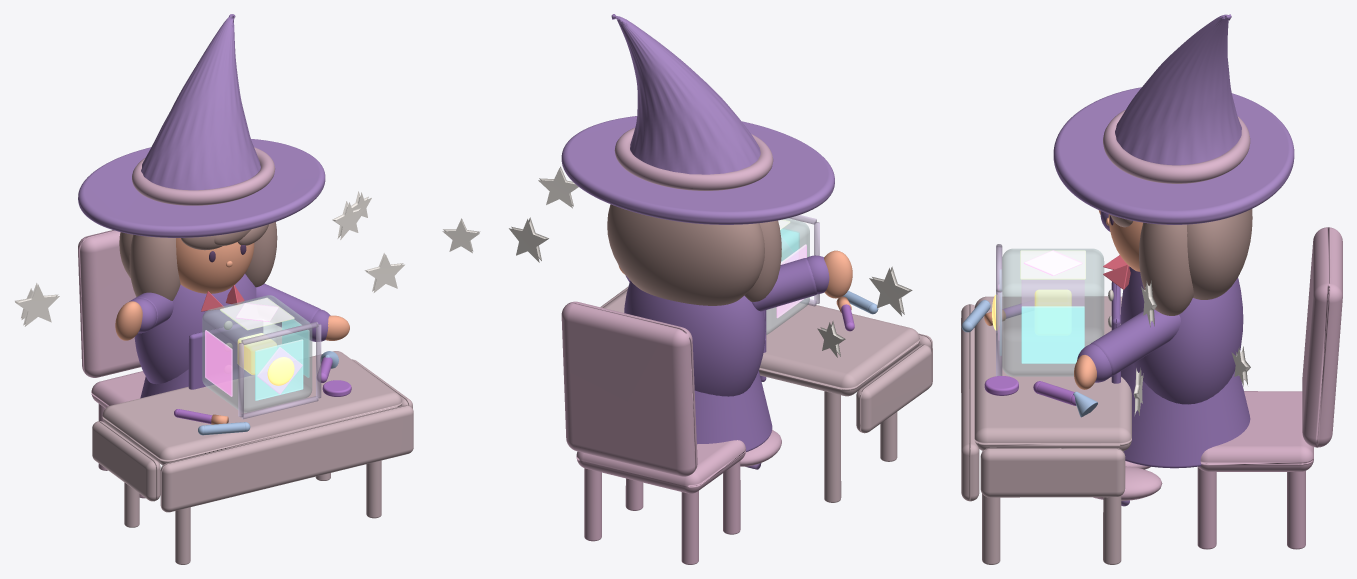
File: mnemonic_witch_asset.glb
The picture shows the model from 3 angles, left to right: view 1: azimuth 30°, elevation 25°; view 2: azimuth 150°, elevation 25°; view 3: azimuth 270°, elevation 25°; orthographic projection. The views are drawn at different scales.
Parts seen in each view (by area): view 1: DESK_cloth_top_rounded_rectangle, DESK_front_hanging_cloth, CHAR_hat_wide_oval_brim, CHAR_hat_bent_cone_pointing_back_right, CHAIR_tall_soft_back_rest, MNEMONIC_outer_translucent_rounded_cube, CHAR_robe_sitting_body, DESK_left_hanging_cloth, CHAR_head_round_peach, CHAR_hair_left_side_lobe, CHAR_hat_dusty_pink_band, MNEMONIC_front_cyan_square (+23 smaller); view 2: CHAIR_tall_soft_back_rest, CHAR_hat_wide_oval_brim, CHAR_hat_bent_cone_pointing_back_right, CHAR_hair_back_bob_mass, DESK_cloth_top_rounded_rectangle, CHAR_robe_sitting_body, CHAR_robe_lower_drape, DESK_left_hanging_cloth, CHAIR_rounded_seat_cushion, CHAR_hat_dusty_pink_band, DESK_soft_tapered_leg_-1.0_-0.5, CHAR_left_raised_sleeve_shaft (+11 smaller); view 3: CHAR_hat_wide_oval_brim, DESK_cloth_top_rounded_rectangle, CHAR_hat_bent_cone_pointing_back_right, CHAR_robe_sitting_body, CHAR_robe_lower_drape, DESK_right_hanging_cloth, CHAIR_tall_soft_back_rest, MNEMONIC_outer_translucent_rounded_cube, CHAIR_rounded_seat_cushion, CHAR_hair_back_bob_mass, CHAR_hair_right_side_lobe, MNEMONIC_right_face_blue_square (+19 smaller).
Part boxes in pixels (x1=…): DESK_cloth_top_rounded_rectangle: x1=102, y1=351, x2=402, y2=465; DESK_front_hanging_cloth: x1=160, y1=405, x2=413, y2=512; CHAR_hat_wide_oval_brim: x1=78, y1=139, x2=325, y2=237; CHAR_hat_bent_cone_pointing_back_right: x1=141, y1=14, x2=260, y2=190; CHAIR_tall_soft_back_rest: x1=78, y1=230, x2=140, y2=377; MNEMONIC_outer_translucent_rounded_cube: x1=202, y1=295, x2=312, y2=412; CHAR_robe_sitting_body: x1=134, y1=274, x2=256, y2=384; DESK_left_hanging_cloth: x1=92, y1=421, x2=160, y2=501; CHAR_head_round_peach: x1=176, y1=238, x2=254, y2=293; CHAR_hair_left_side_lobe: x1=129, y1=234, x2=180, y2=300; CHAR_hat_dusty_pink_band: x1=132, y1=147, x2=275, y2=205; MNEMONIC_front_cyan_square: x1=255, y1=339, x2=303, y2=400; CHAIR_tall_soft_back_rest: x1=561, y1=301, x2=697, y2=476; CHAR_hat_wide_oval_brim: x1=561, y1=116, x2=834, y2=224; CHAR_hat_bent_cone_pointing_back_right: x1=611, y1=14, x2=760, y2=174; CHAR_hair_back_bob_mass: x1=607, y1=204, x2=764, y2=305; DESK_cloth_top_rounded_rectangle: x1=603, y1=290, x2=919, y2=396; CHAR_robe_sitting_body: x1=624, y1=280, x2=765, y2=396; CHAR_robe_lower_drape: x1=694, y1=370, x2=772, y2=451; DESK_left_hanging_cloth: x1=856, y1=344, x2=931, y2=433; CHAIR_rounded_seat_cushion: x1=576, y1=440, x2=745, y2=493; CHAR_hat_dusty_pink_band: x1=614, y1=127, x2=773, y2=190; DESK_soft_tapered_leg_-1.0_-0.5: x1=824, y1=391, x2=841, y2=502; CHAR_left_raised_sleeve_shaft: x1=752, y1=258, x2=817, y2=311; CHAR_hat_wide_oval_brim: x1=1053, y1=87, x2=1294, y2=224; DESK_cloth_top_rounded_rectangle: x1=974, y1=296, x2=1131, y2=451; CHAR_hat_bent_cone_pointing_back_right: x1=1115, y1=14, x2=1241, y2=165; CHAR_robe_sitting_body: x1=1120, y1=266, x2=1243, y2=404; CHAR_robe_lower_drape: x1=1121, y1=364, x2=1250, y2=468; DESK_right_hanging_cloth: x1=980, y1=447, x2=1125, y2=497; CHAIR_tall_soft_back_rest: x1=1302, y1=227, x2=1342, y2=447; MNEMONIC_outer_translucent_rounded_cube: x1=1002, y1=248, x2=1104, y2=376; CHAIR_rounded_seat_cushion: x1=1198, y1=391, x2=1313, y2=471; CHAR_hair_back_bob_mass: x1=1187, y1=209, x2=1252, y2=299; CHAR_hair_right_side_lobe: x1=1139, y1=222, x2=1193, y2=315; MNEMONIC_right_face_blue_square: x1=1021, y1=306, x2=1084, y2=363.
Size of the model in its own units: 4.09 by 4.5 by 2.9.
